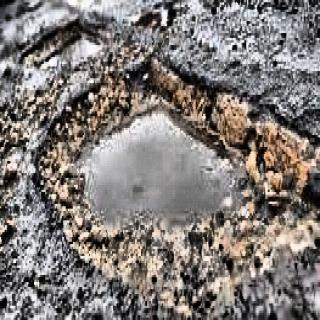pothole: (32, 51, 320, 319), (13, 12, 107, 84)
